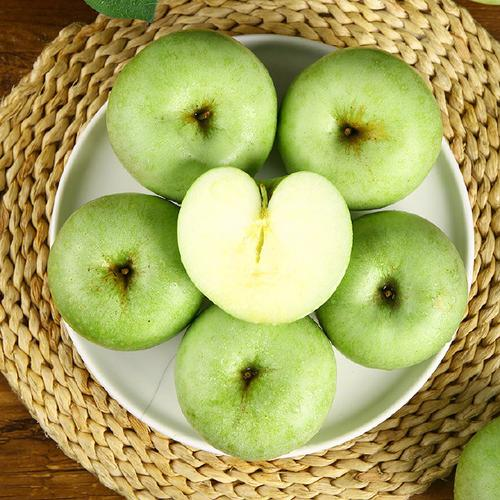unripe: (97, 29, 286, 203), (274, 45, 460, 207), (32, 188, 212, 353), (172, 306, 341, 462), (319, 207, 473, 375)
